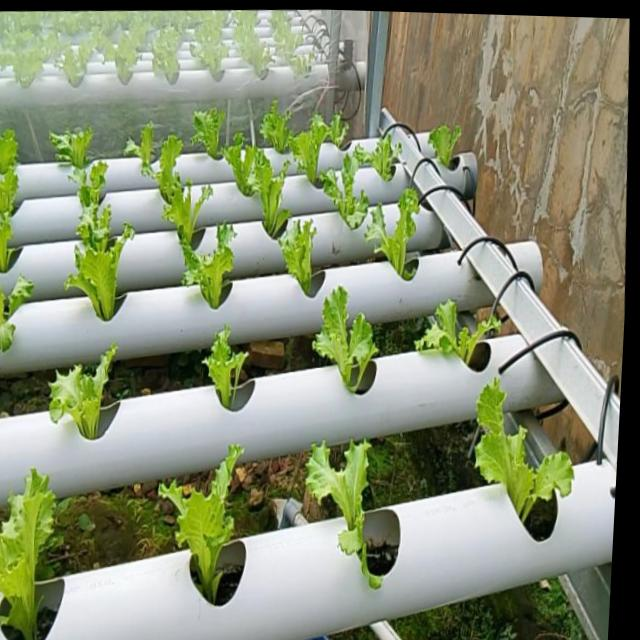Baby: (481, 374, 581, 519), (162, 442, 246, 602), (310, 437, 388, 587), (0, 468, 59, 640), (316, 282, 382, 388), (146, 156, 217, 248), (53, 343, 120, 438), (420, 292, 511, 358), (239, 144, 296, 238), (369, 183, 425, 276), (180, 100, 238, 184), (74, 237, 129, 321), (293, 110, 352, 183), (323, 145, 373, 228), (207, 322, 251, 405), (79, 180, 120, 269), (198, 223, 237, 307), (282, 217, 321, 294), (0, 275, 38, 352), (359, 125, 407, 179), (127, 122, 166, 178), (53, 127, 96, 170), (0, 138, 22, 219), (263, 99, 296, 153), (432, 119, 466, 160)
